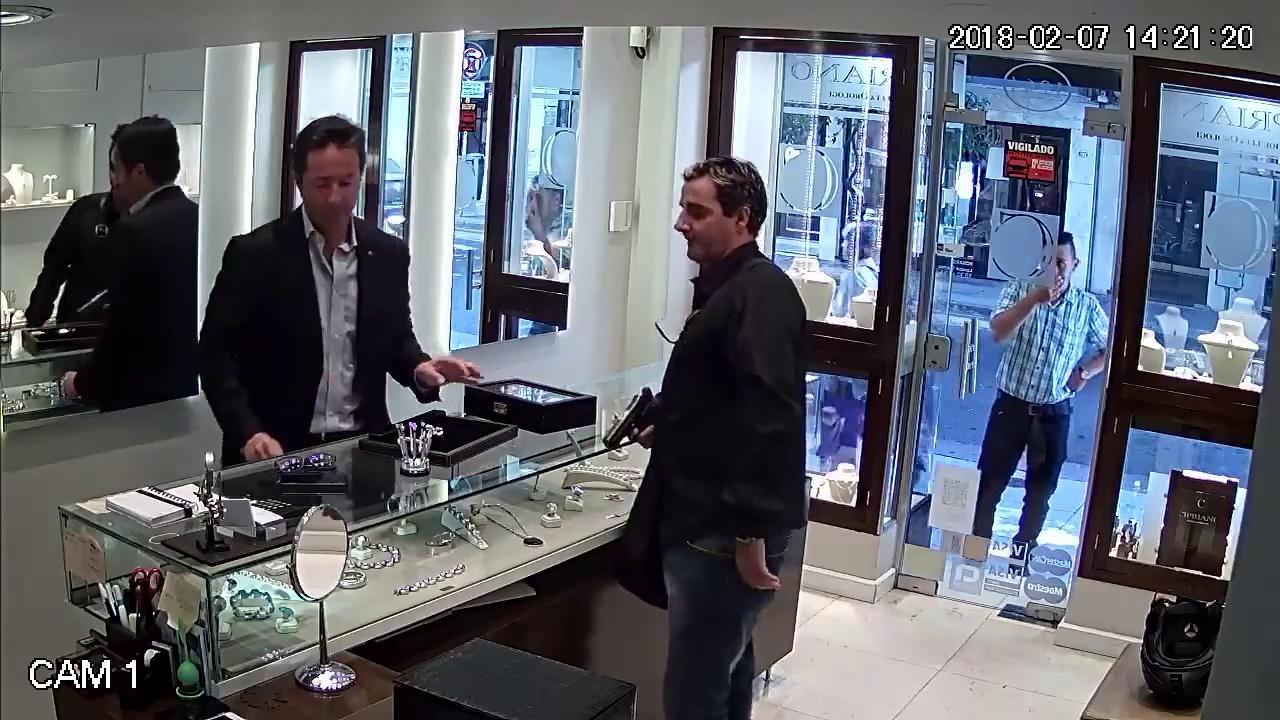Guns perspective: (592, 366, 668, 470)
